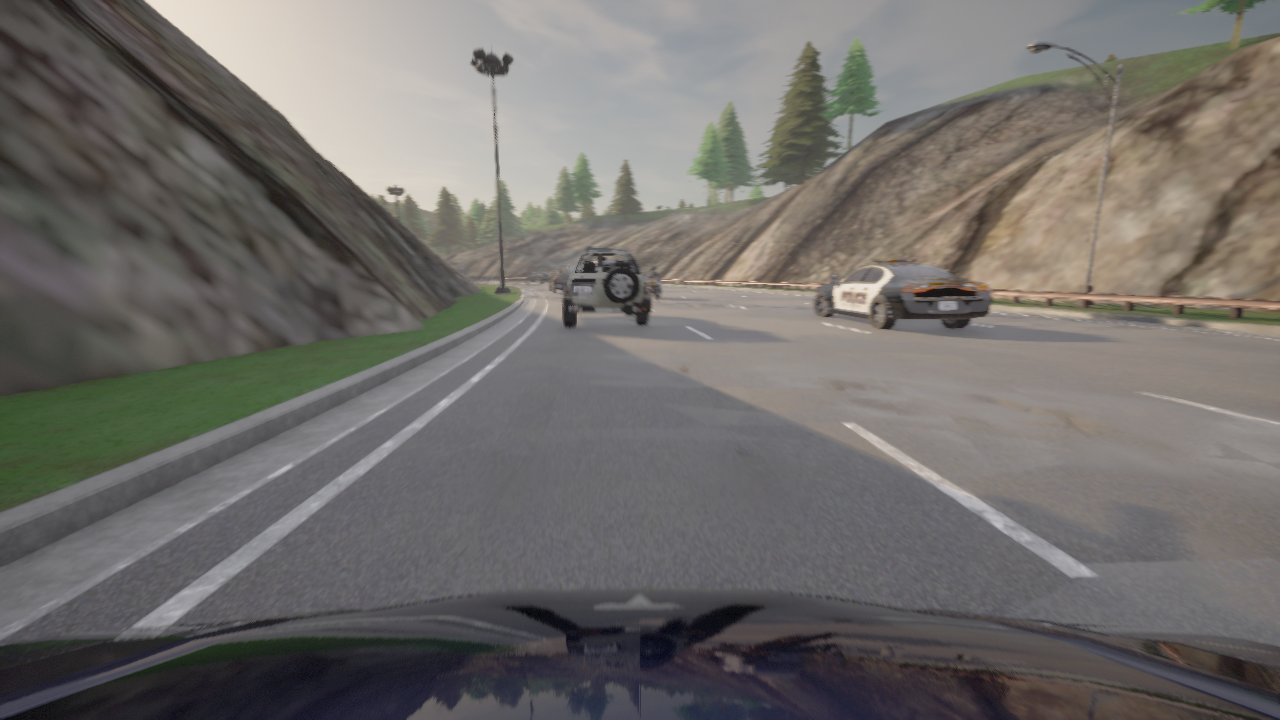cyclist: (0, 588, 1279, 719), (814, 259, 992, 329), (563, 247, 651, 326), (548, 266, 571, 293), (527, 271, 551, 284), (648, 275, 661, 298)
